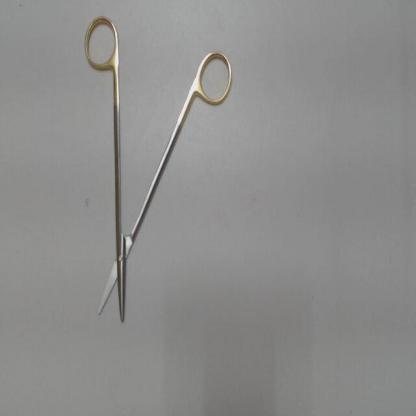7 Metzenbaum Scissors: (81, 11, 239, 330)
